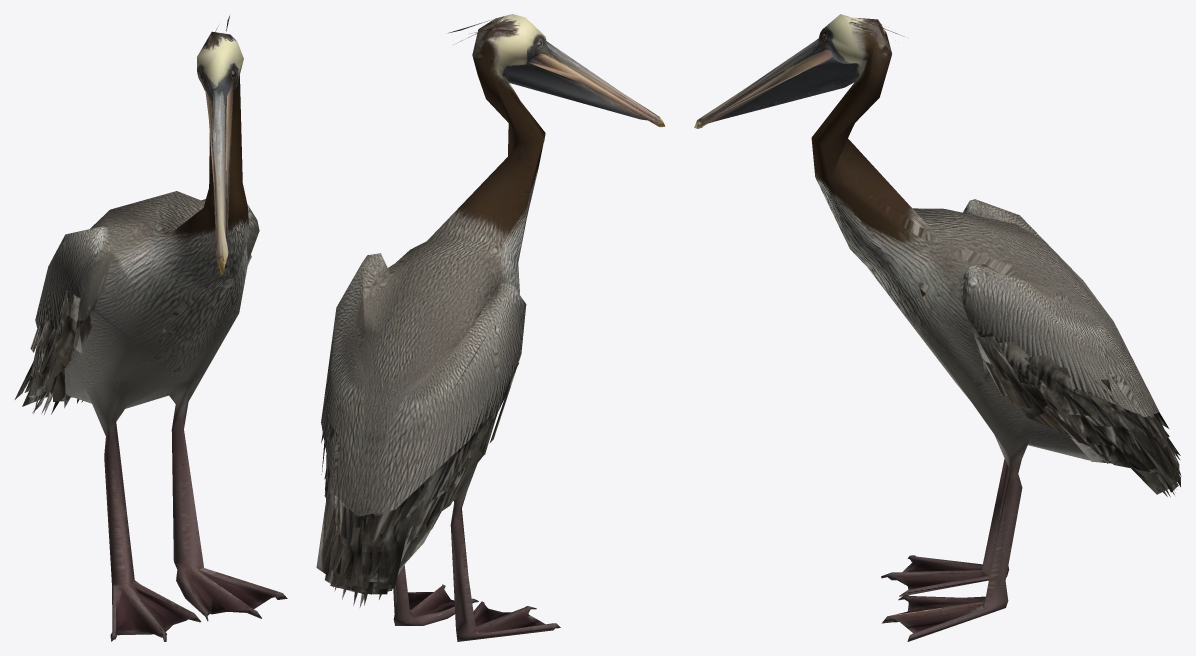
The model's file is pelican.glb.
3 views of the same model, side by side, from view 1: azimuth 30°, elevation 25°; view 2: azimuth 150°, elevation 25°; view 3: azimuth 270°, elevation 25° (orthographic). The views are drawn at different scales.
Bounding box in the file's own units: 0.2787 × 0.8829 × 0.6702.
Materials: 1 (1 with a texture image).
